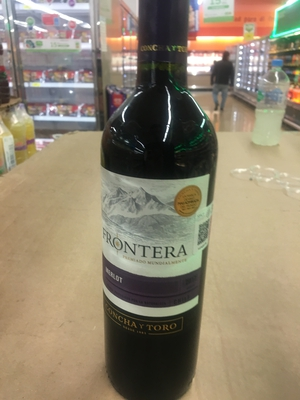frontera merlot: (92, 21, 230, 388)
